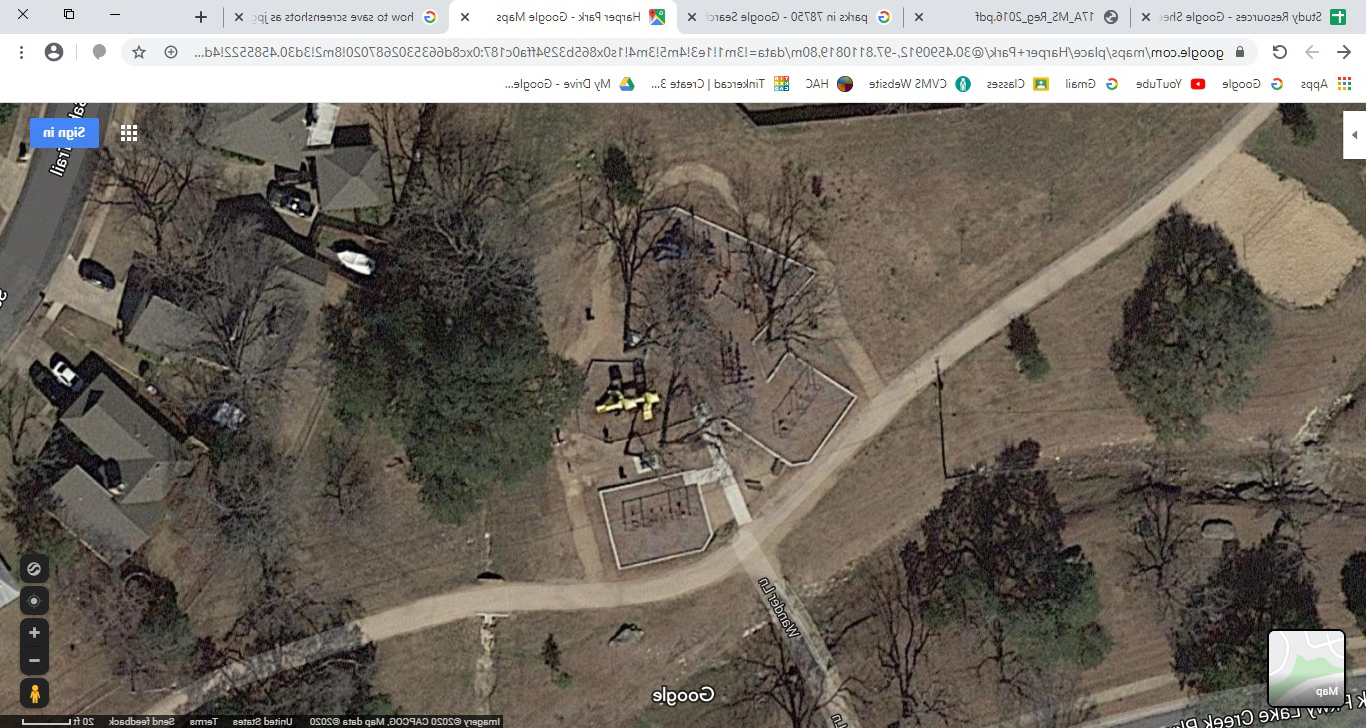playscape: (506, 254, 934, 572)
